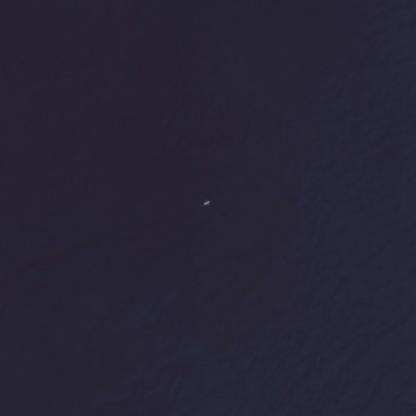ship: (197, 195, 213, 210)
